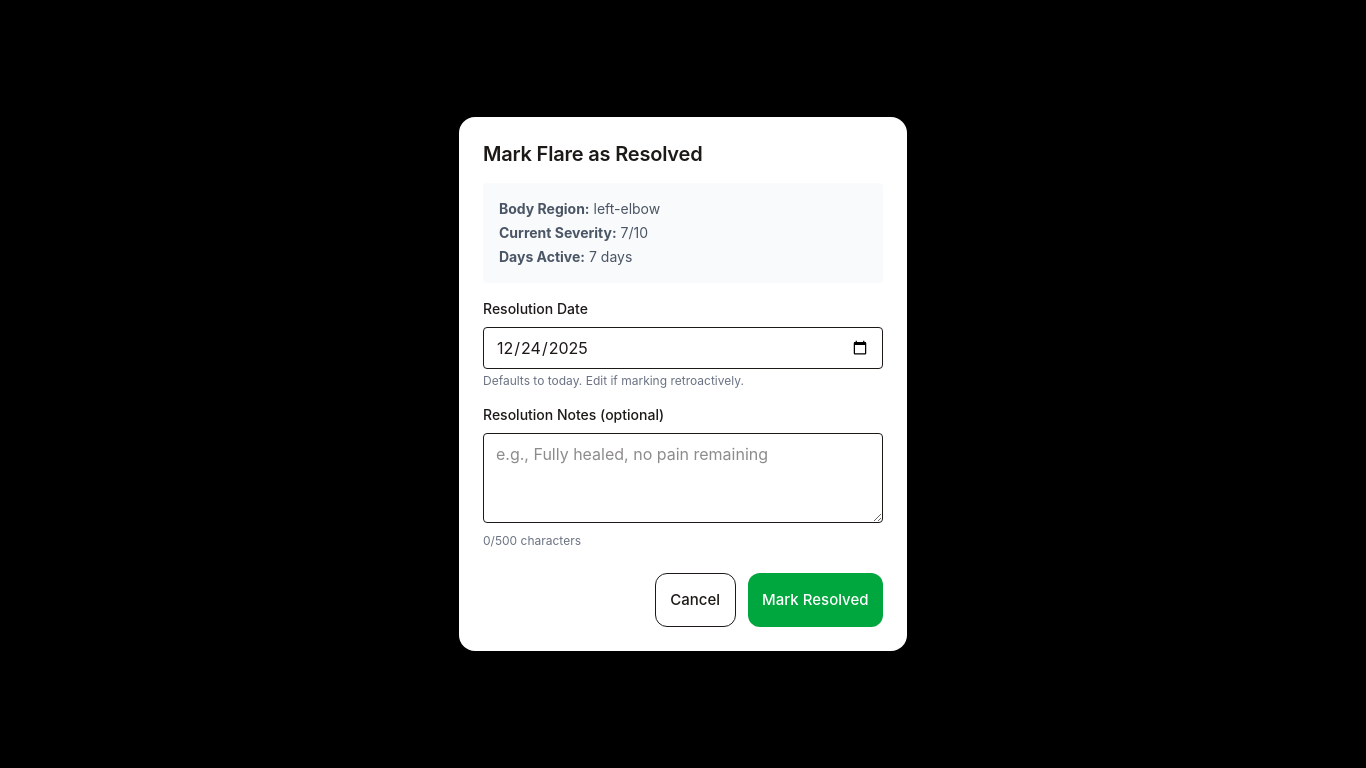
Test: FlareResolveModal › Confirmation Dialog › displays confirmation dialog when Mark Resolved is clicked
What coordinates should you click on to do the following:
click the button with aria-label "Mark flare as resolved"
I would click on:
 (815, 600)
Its box is top-left (748, 573), bottom-right (883, 627).
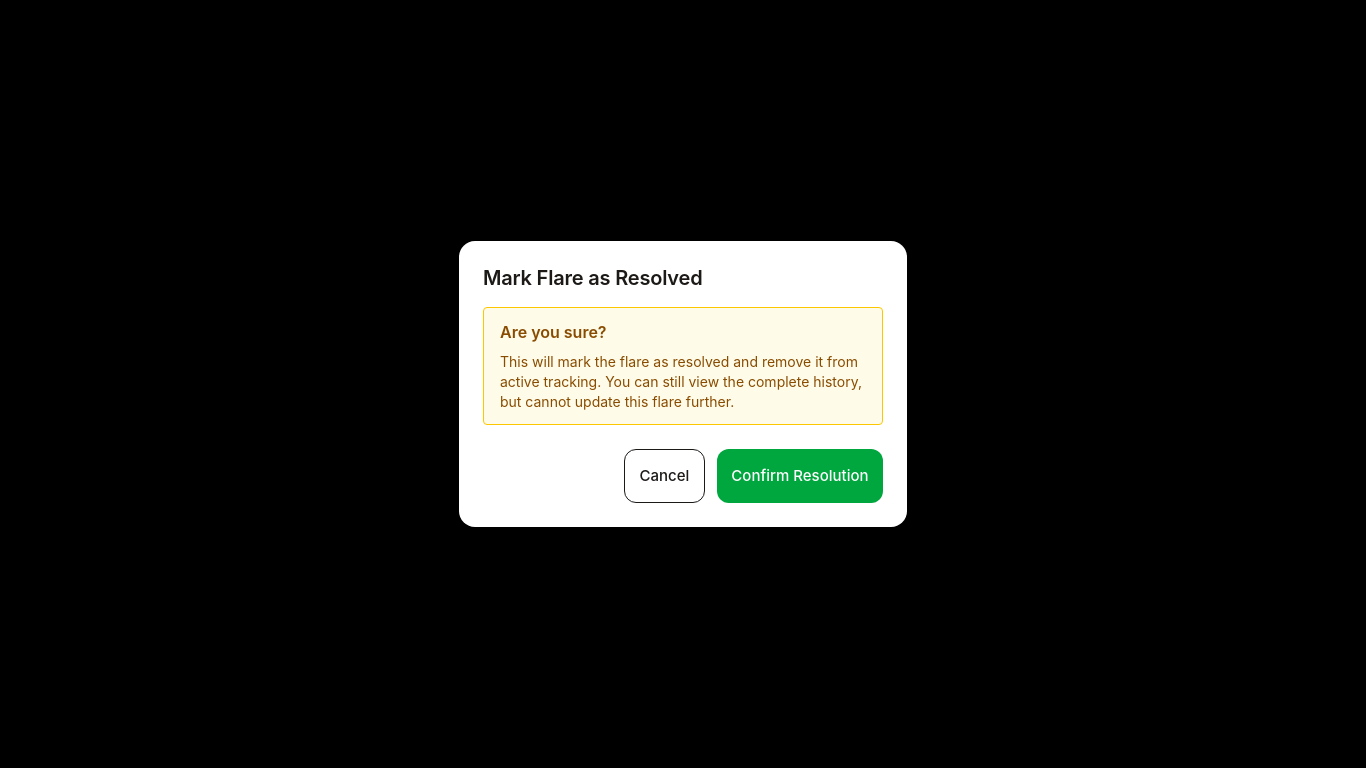
Expected: the text "Are you sure?" is shown, top-left (500, 322), bottom-right (607, 342)
Expected: the text "This will mark the flare as resolved and remove it from active tracking" is shown, top-left (500, 353), bottom-right (862, 410)
